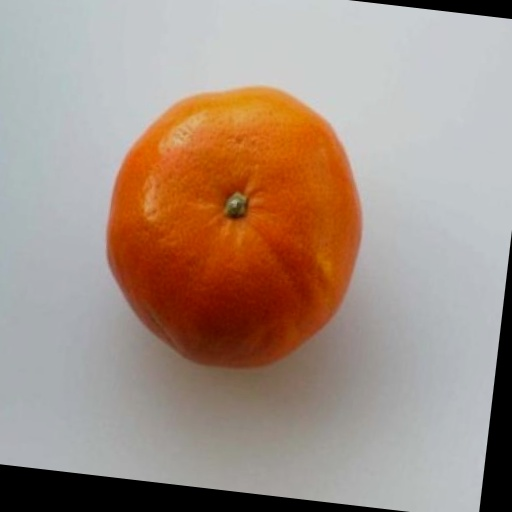fruit: (106, 88, 360, 366)
